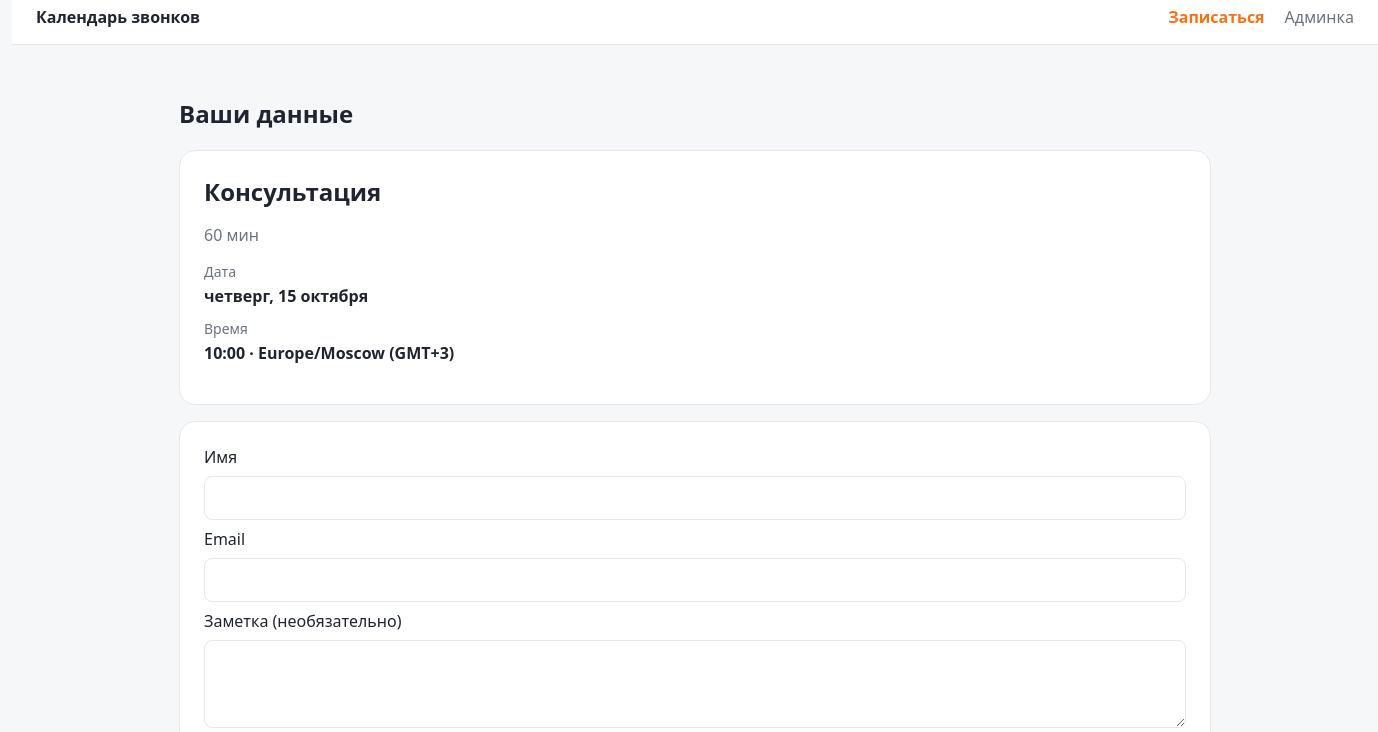
booking form › returns to the picker on 422 with a clear message
Step 1. Type "Анна Гость" into the field labelled "Имя" → (695, 498), box [204, 476, 1186, 520]
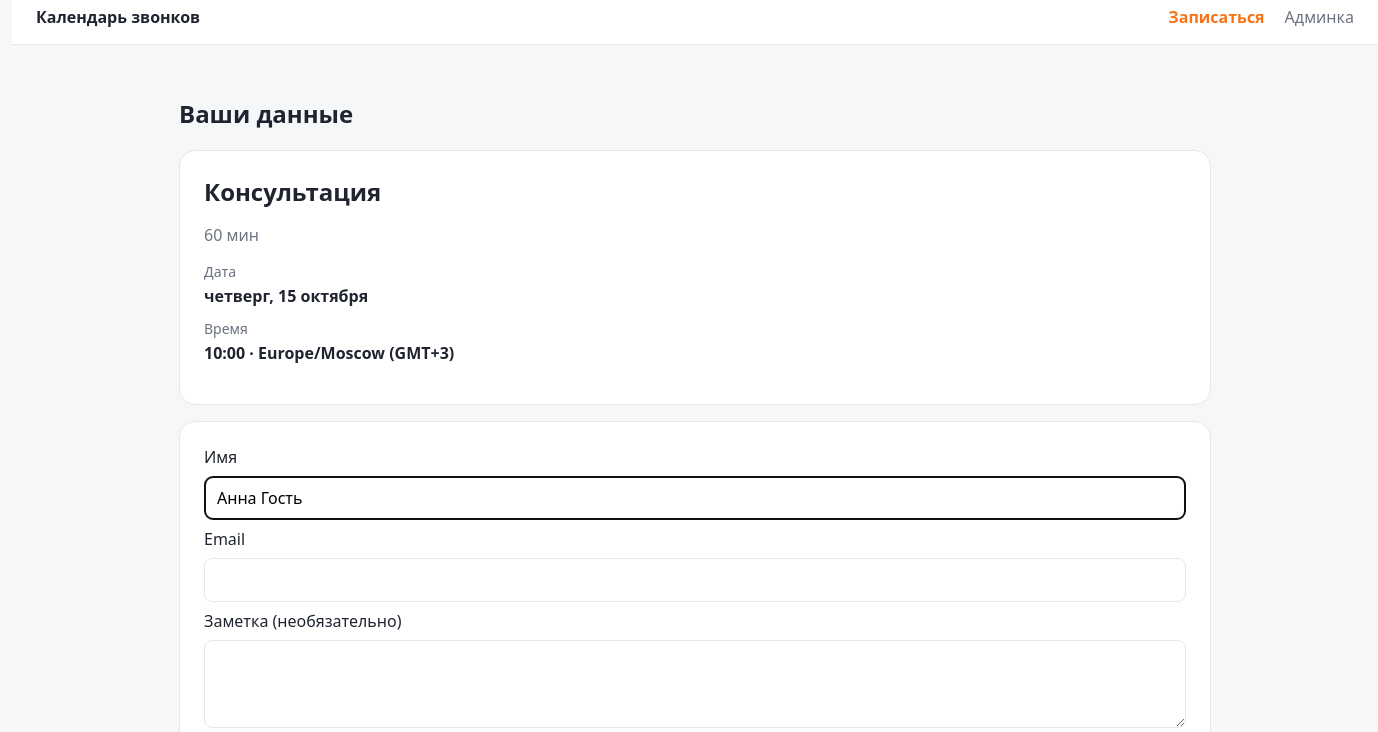
Step 2. Type "anna@example.com" into the field labelled "Email" → (695, 580), box [204, 558, 1186, 602]
(page scrolled)
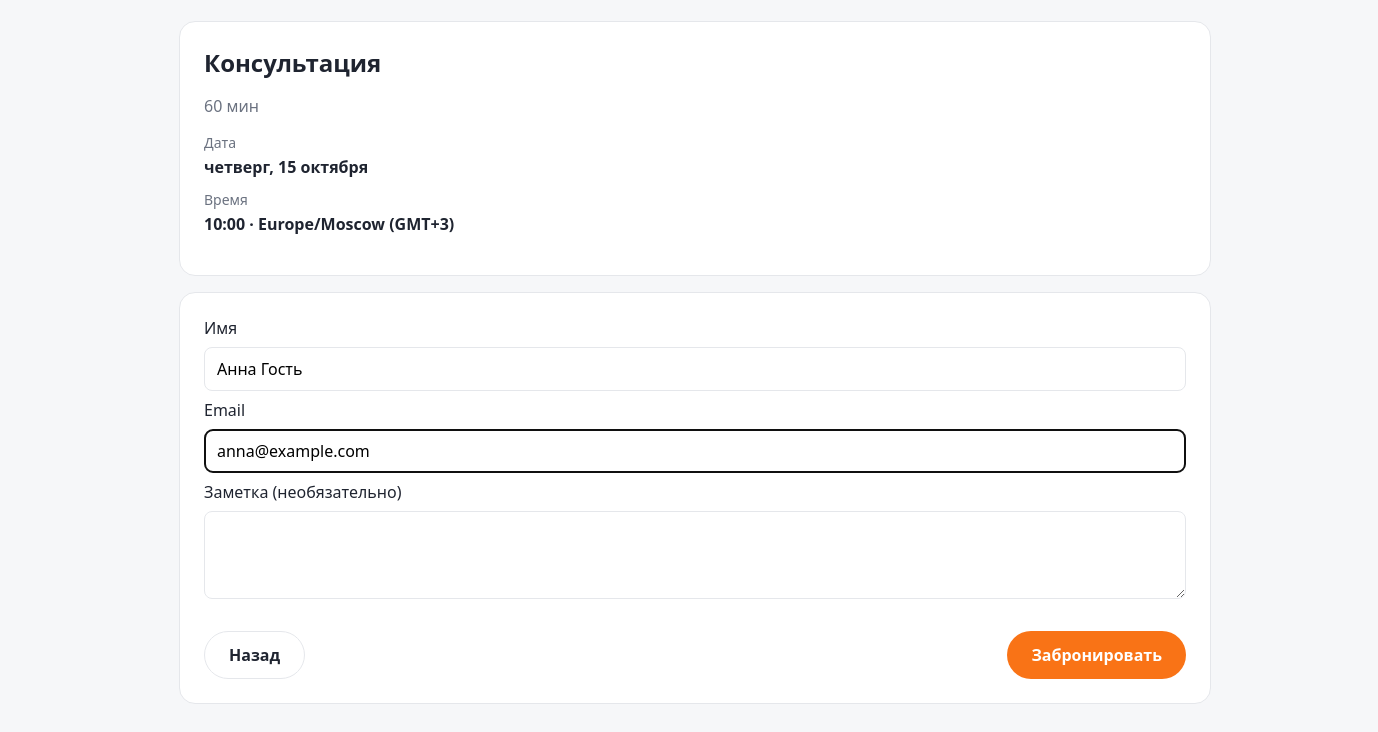
Step 3. Click the button "Забронировать" → (1097, 655), box [1007, 631, 1186, 679]
(page scrolled)
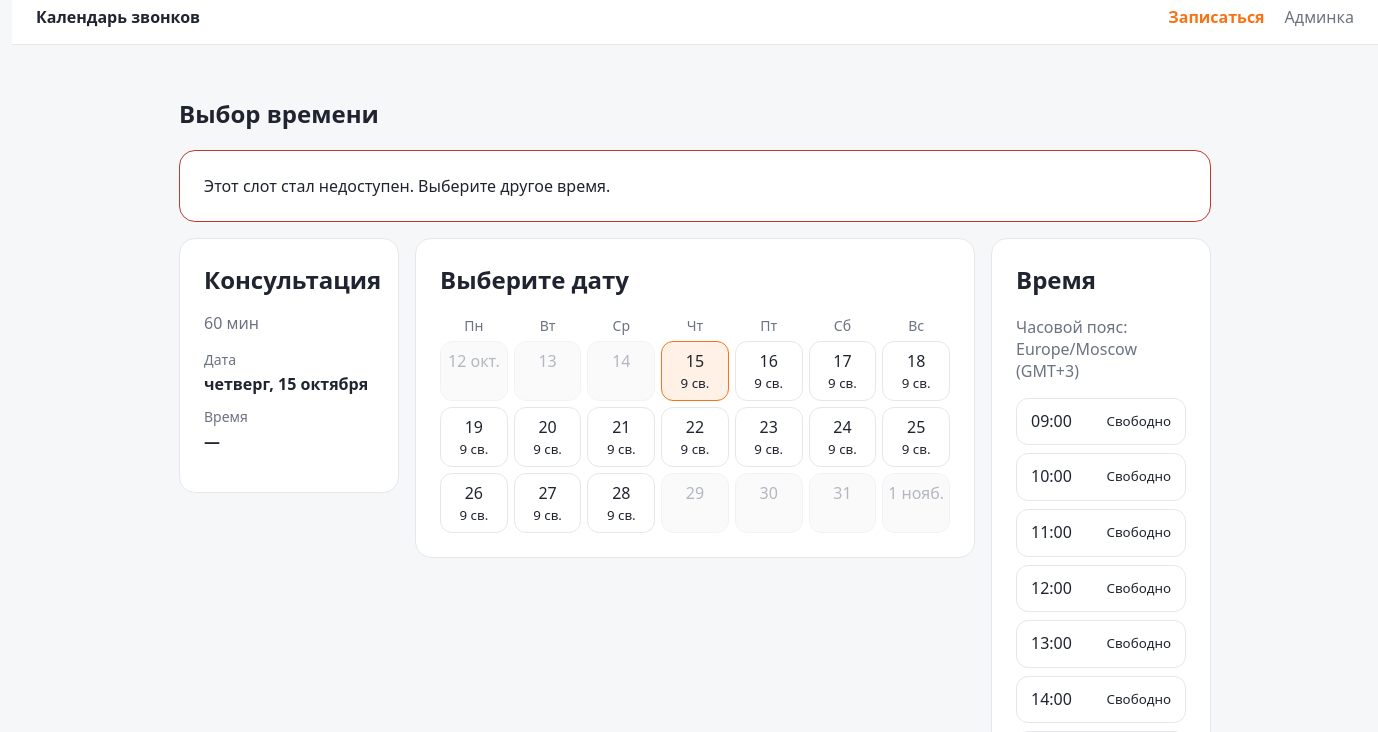
Check: the message shows "стал недоступен", box [204, 175, 610, 197]
Check: the heading "Выбор времени" is shown, box [179, 97, 379, 130]
